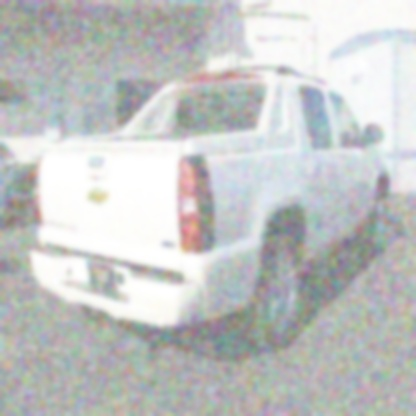Vehicle: (30, 68, 392, 355)
